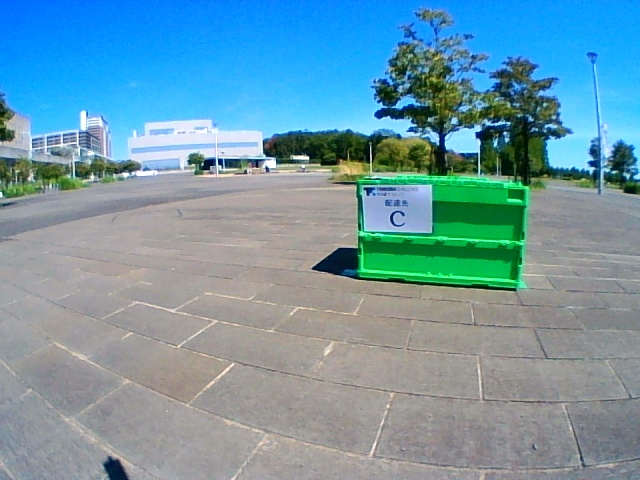green_box: (356, 174, 528, 289)
tag_c: (363, 186, 433, 232)
